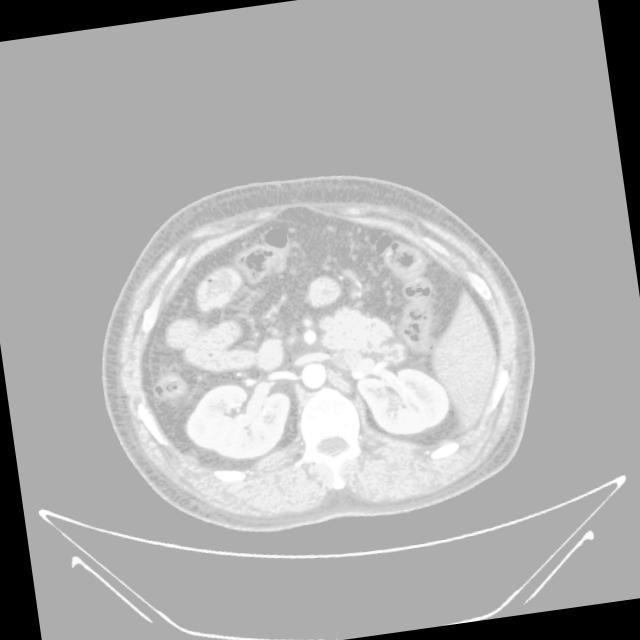NORMAL: (90, 146, 551, 530)
